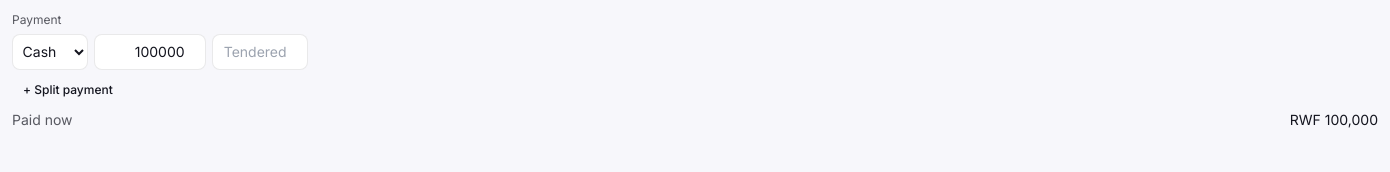
Test: PaymentPanel › shows change for cash tendered above the amount
In the number field named "Payment 1 tendered": (260, 52) [212,34,308,70], type "120000"
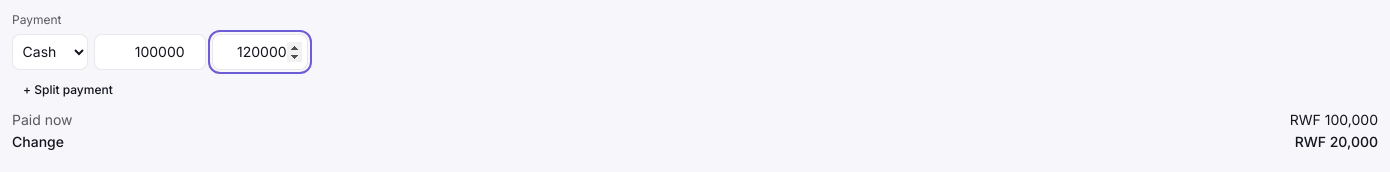
Now the text "RWF 20,000" is shown, box [1295,132,1378,152]
